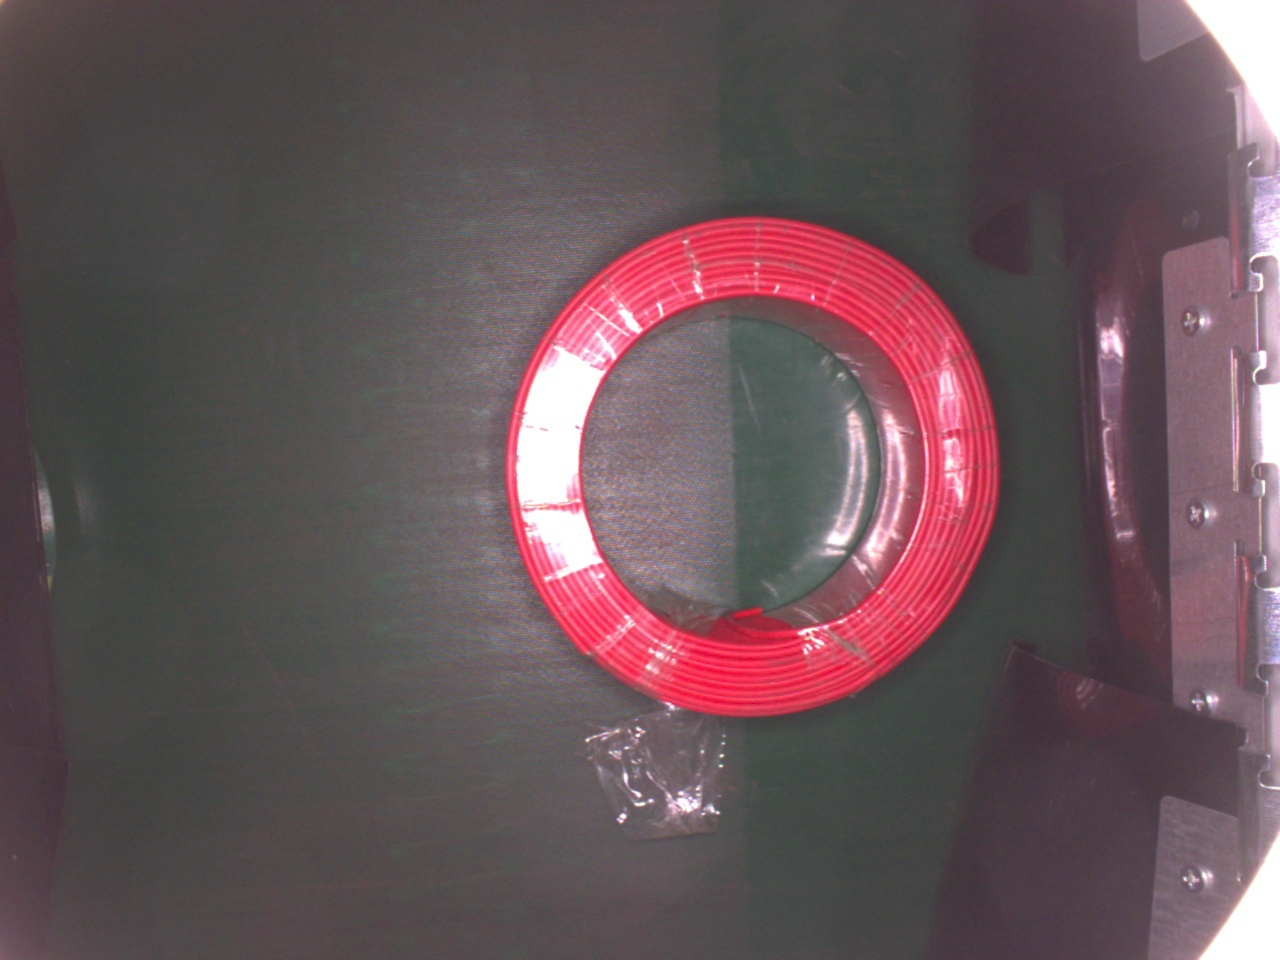red: (501, 206, 1001, 719)
